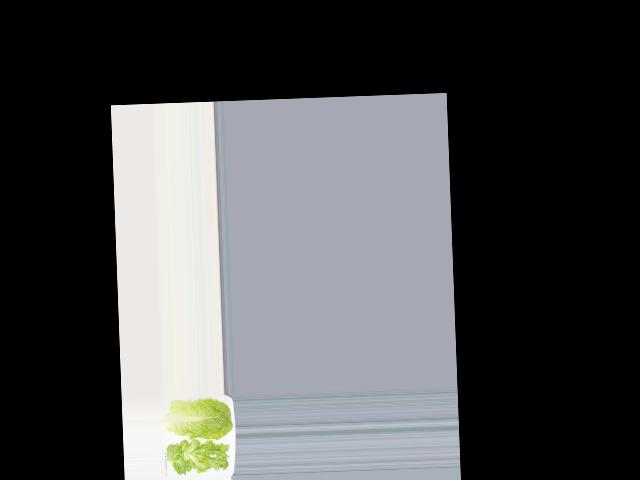lettuce: (168, 439, 230, 479)
